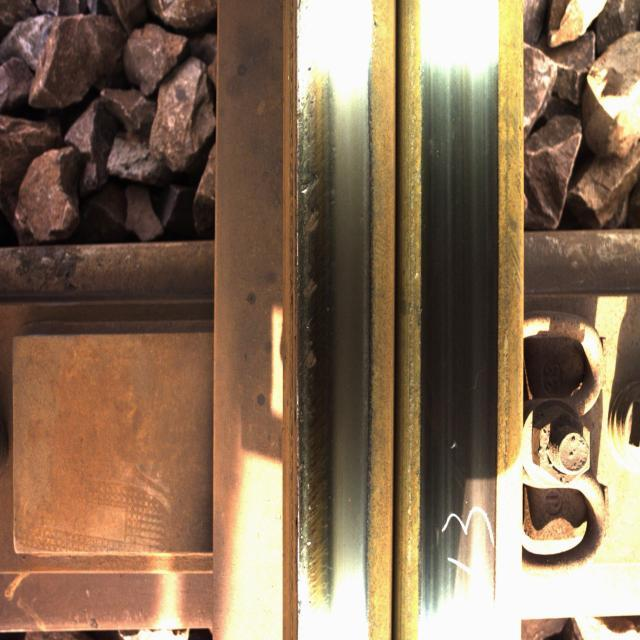break: (427, 192, 502, 626)
crack: (292, 41, 342, 606)
